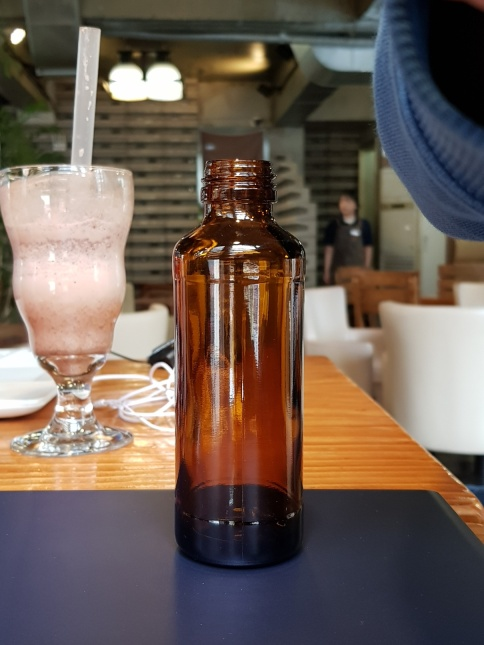Glass: (168, 154, 313, 572)
